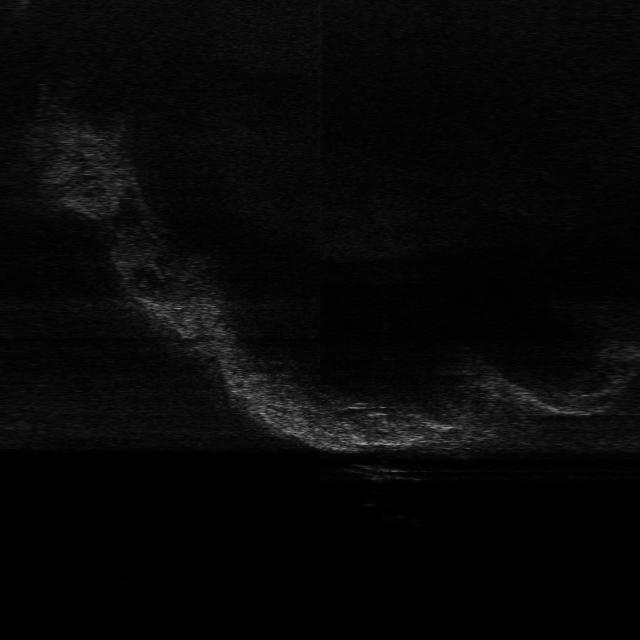plane: (344, 462, 426, 484)
